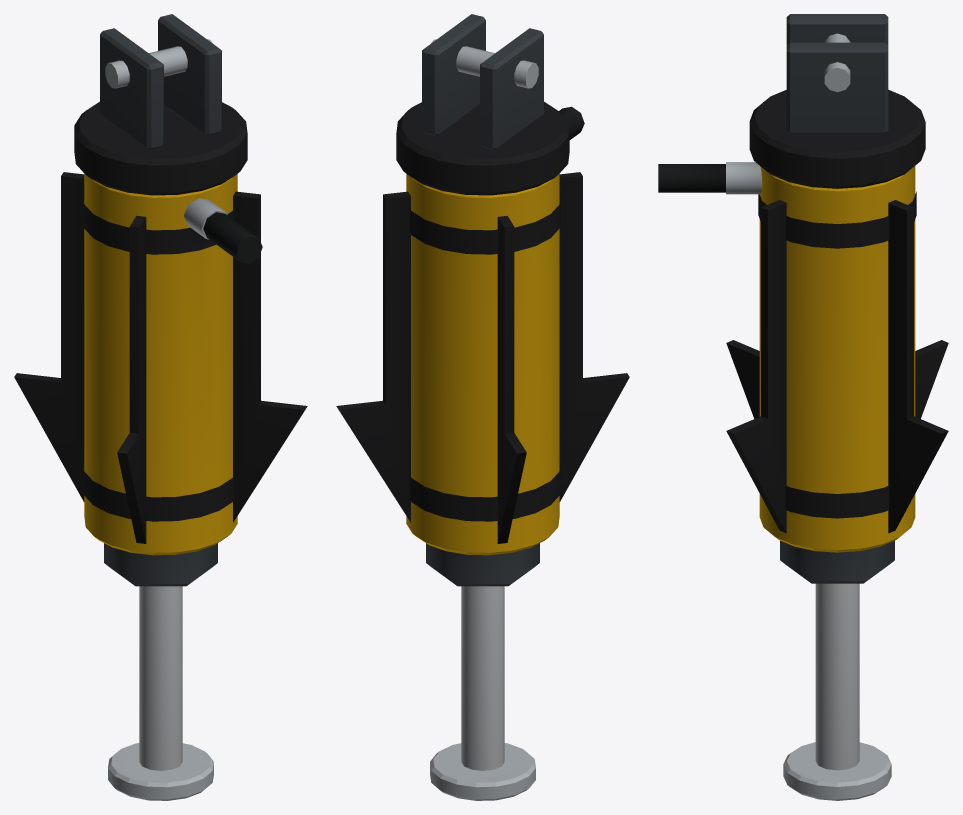
The model's file is jig_cylinder.glb.
3 renders of one model, left to right at view 1: azimuth 30°, elevation 25°; view 2: azimuth 150°, elevation 25°; view 3: azimuth 270°, elevation 25°, orthographic.
Parts seen in each view (by area): view 1: cylinder_body, cylinder_rod; view 2: cylinder_body, cylinder_rod; view 3: cylinder_body, cylinder_rod.
Boxes of the visible parts, left/top/right/bottom form: cylinder_body: left=14, top=14, right=307, bottom=586; cylinder_rod: left=108, top=586, right=213, bottom=800; cylinder_body: left=336, top=14, right=629, bottom=586; cylinder_rod: left=430, top=586, right=535, bottom=800; cylinder_body: left=658, top=14, right=948, bottom=583; cylinder_rod: left=783, top=583, right=891, bottom=800.
Bounding box in the file's own units: 0.0658 × 0.244 × 0.0859.
